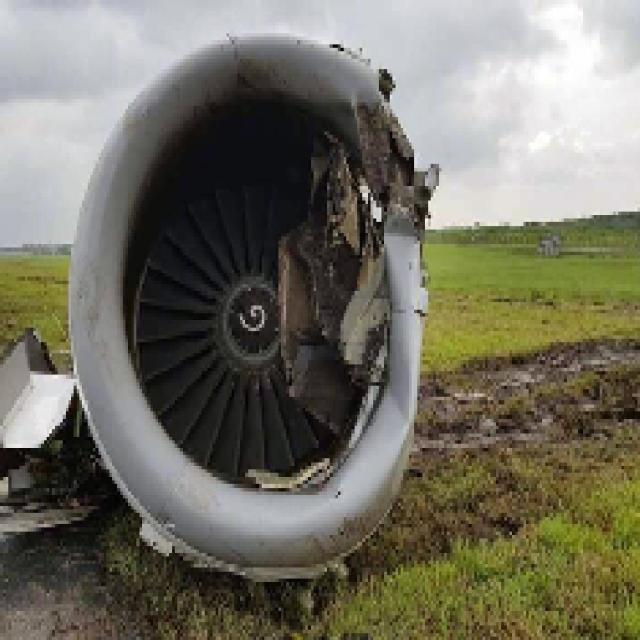dent: (380, 331, 421, 504), (380, 218, 423, 271)
